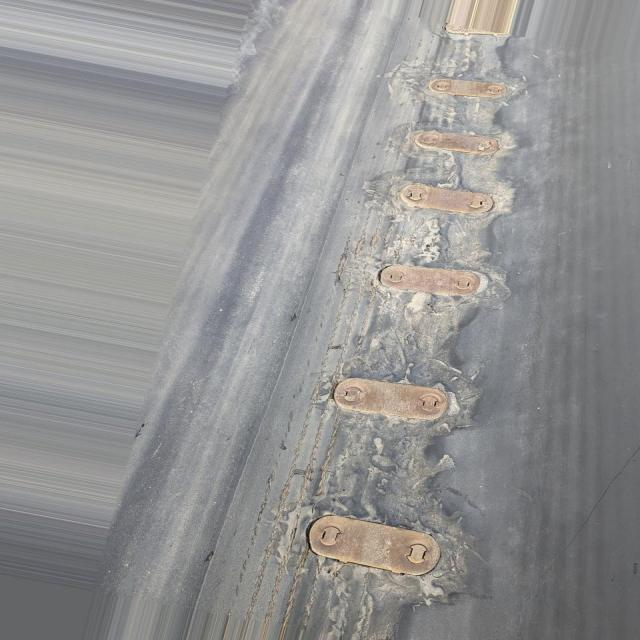patch work: (281, 36, 527, 611)
